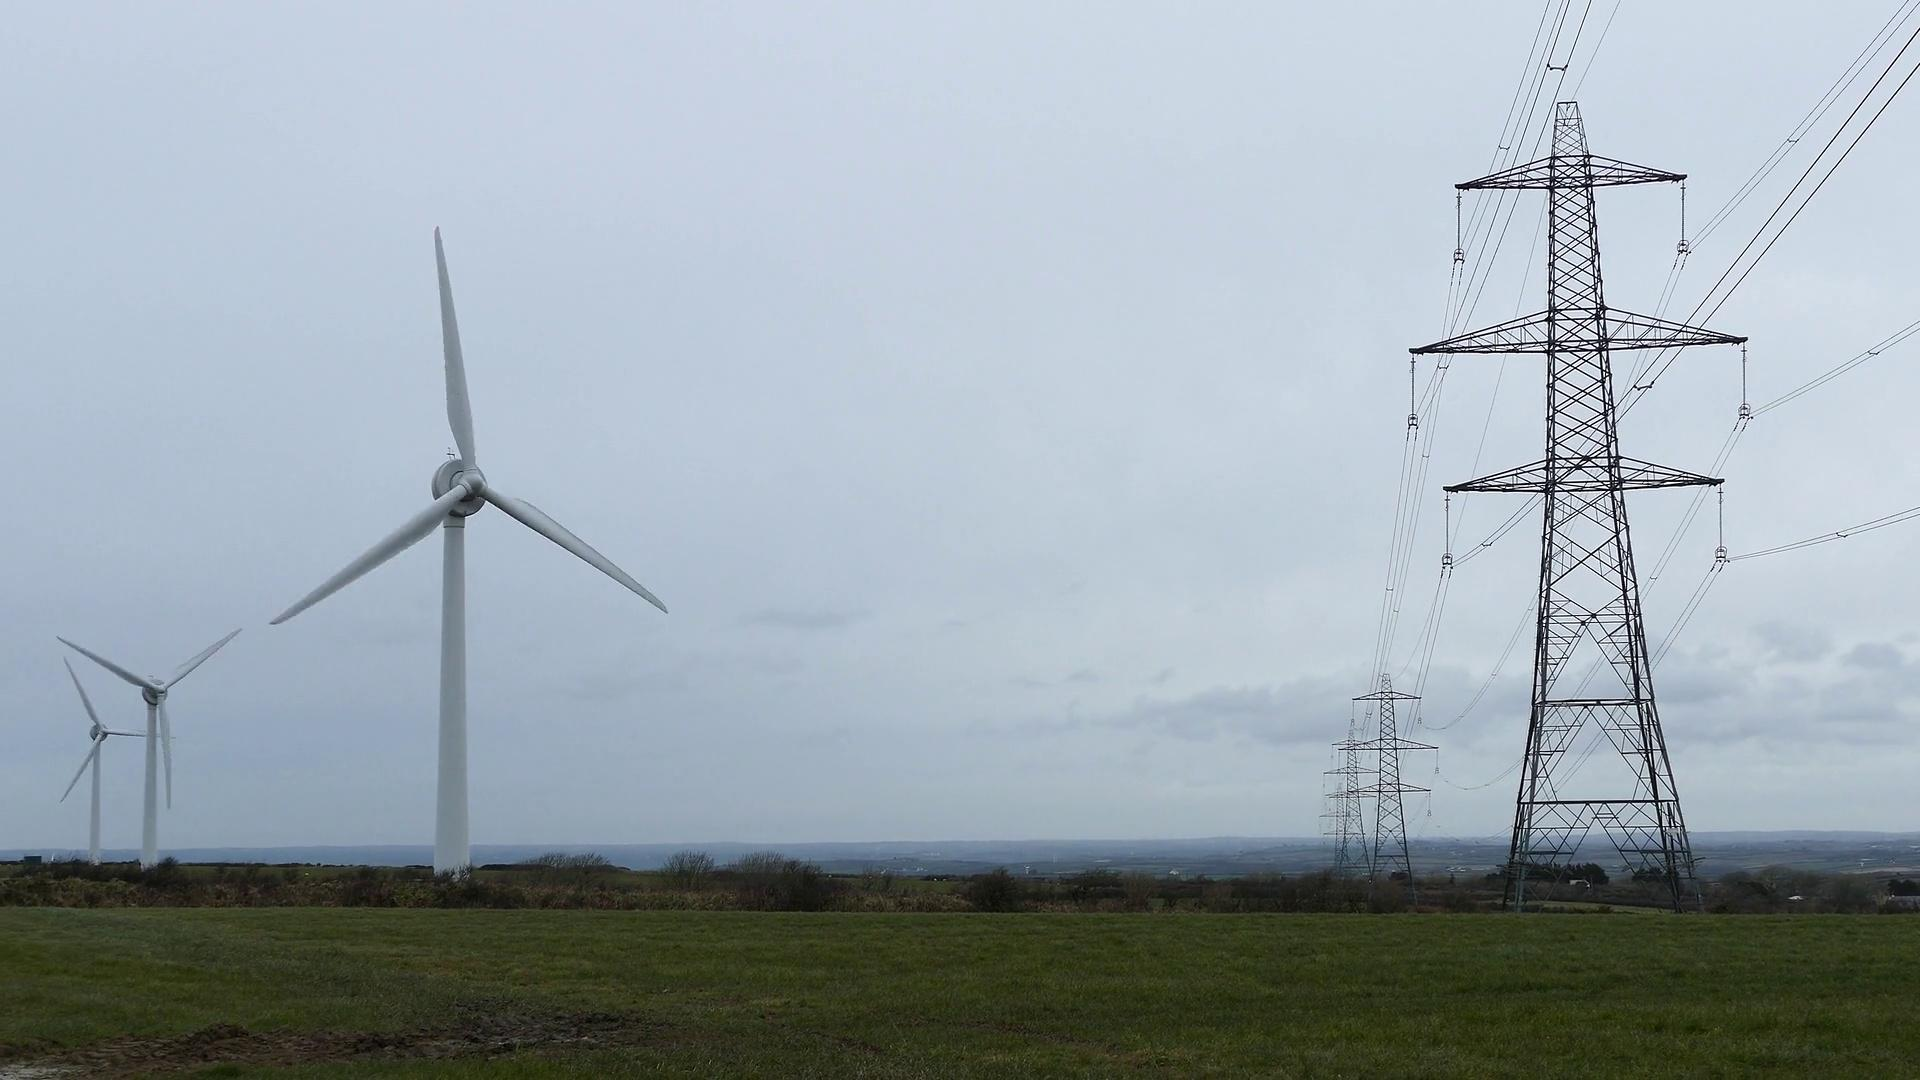cable tower: (1399, 88, 1754, 914), (1346, 669, 1439, 913), (1321, 731, 1379, 893), (1317, 785, 1362, 877)
turbine: (218, 175, 740, 949), (63, 579, 293, 918), (37, 633, 193, 887)
